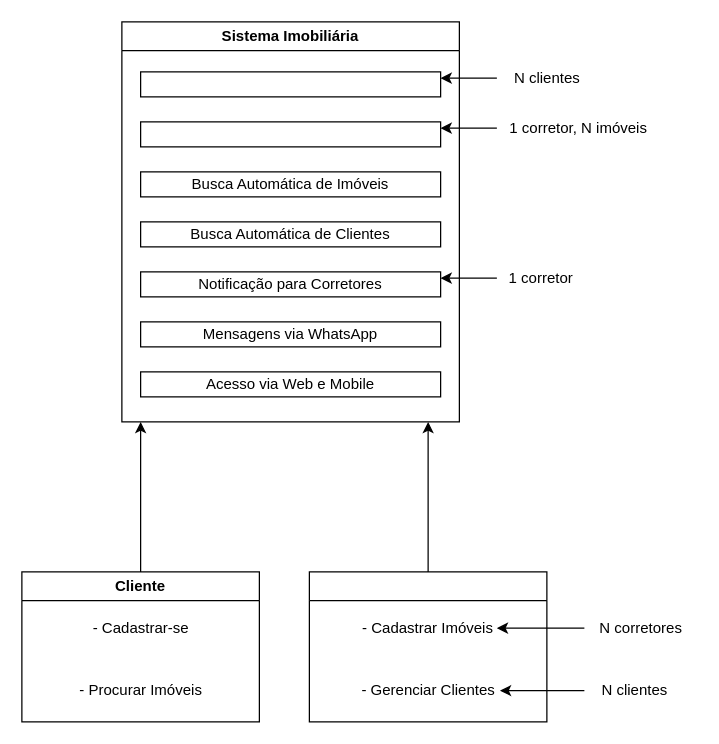
Some shapes in this 719 by 744 pixel diagram are drawn without their labels. Here are the shapes that lost their labels. From the top down, the box of each, then its label:
(139, 71, 441, 97): Cadastro de Clientes
(139, 121, 441, 147): Cadastro de Imóveis
(308, 571, 547, 722): Corretor
